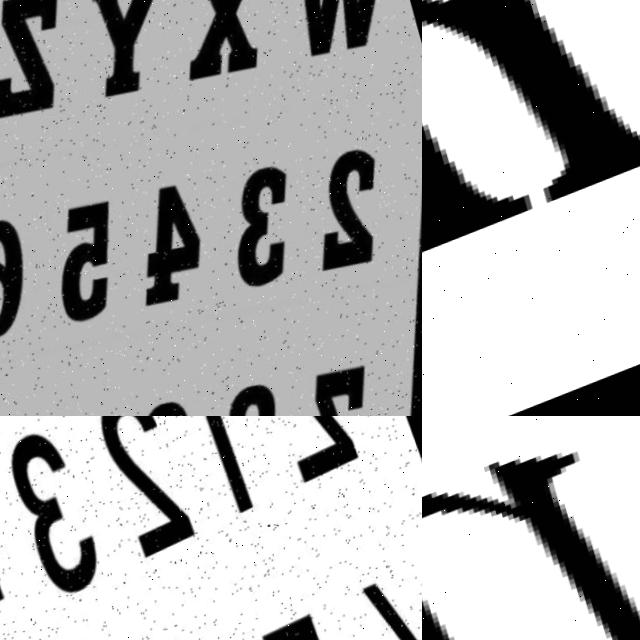1: (168, 416, 280, 548)
2: (75, 416, 213, 596), (284, 135, 422, 311)
3: (0, 416, 121, 630), (199, 155, 324, 317)
4: (100, 147, 255, 345)
5: (16, 170, 158, 360)
6: (0, 174, 74, 382), (324, 522, 422, 640)
7: (261, 336, 414, 416), (239, 582, 374, 640)
8: (183, 360, 327, 416)
9: (89, 372, 240, 416)
M: (422, 0, 640, 348), (422, 416, 640, 640)
